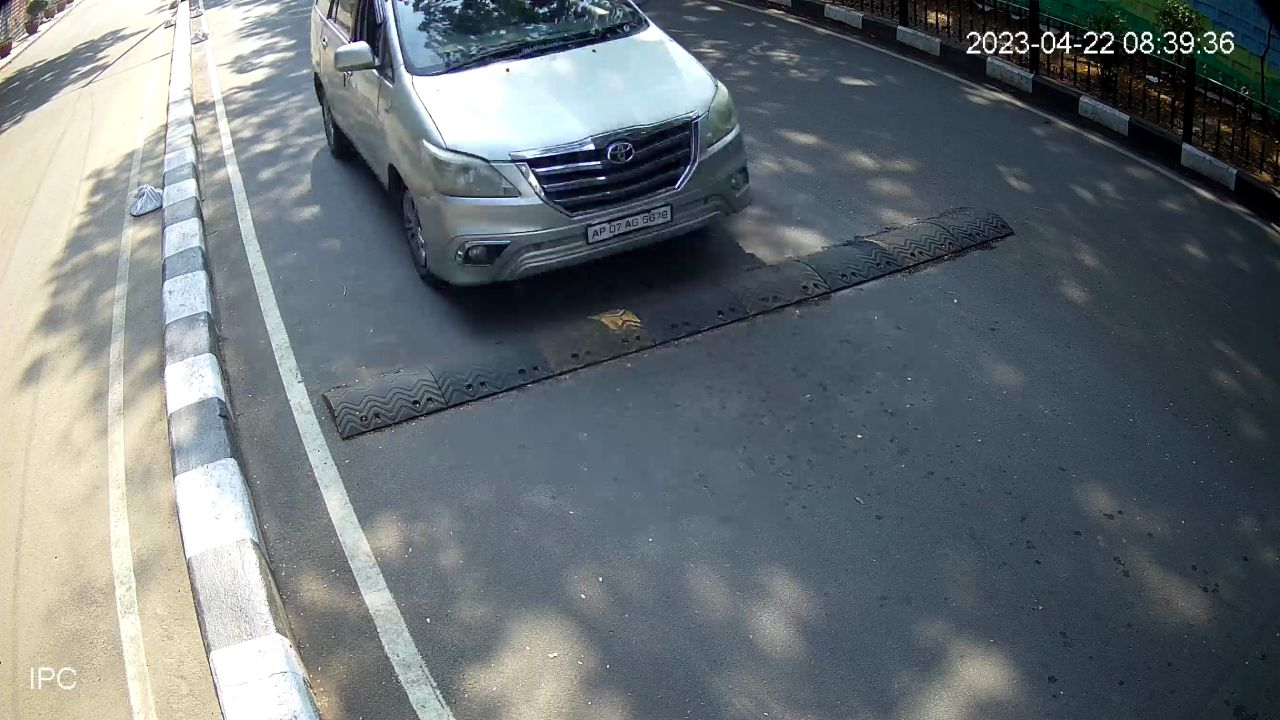license_plate: (582, 198, 675, 248)
